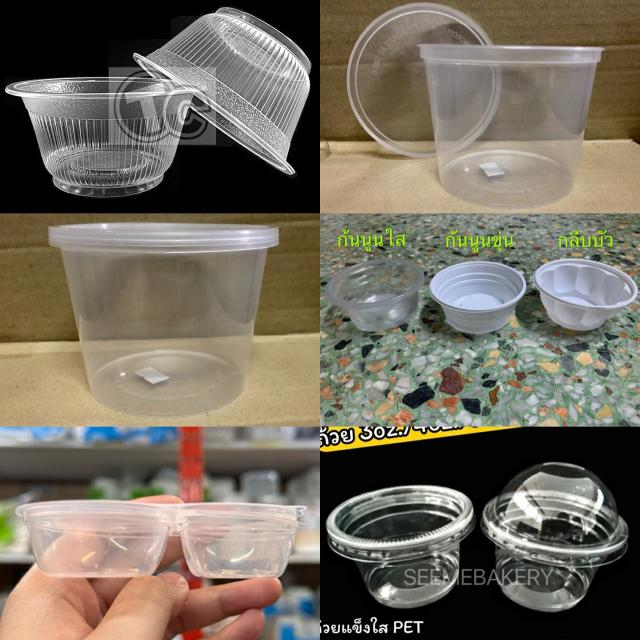Single-Use-Plastic: (49, 222, 279, 414), (134, 8, 311, 175), (420, 45, 600, 208), (347, 2, 502, 158), (16, 500, 305, 579), (6, 78, 193, 198), (480, 462, 628, 612), (327, 485, 475, 608), (533, 259, 638, 329), (325, 259, 424, 331), (429, 261, 525, 333)
